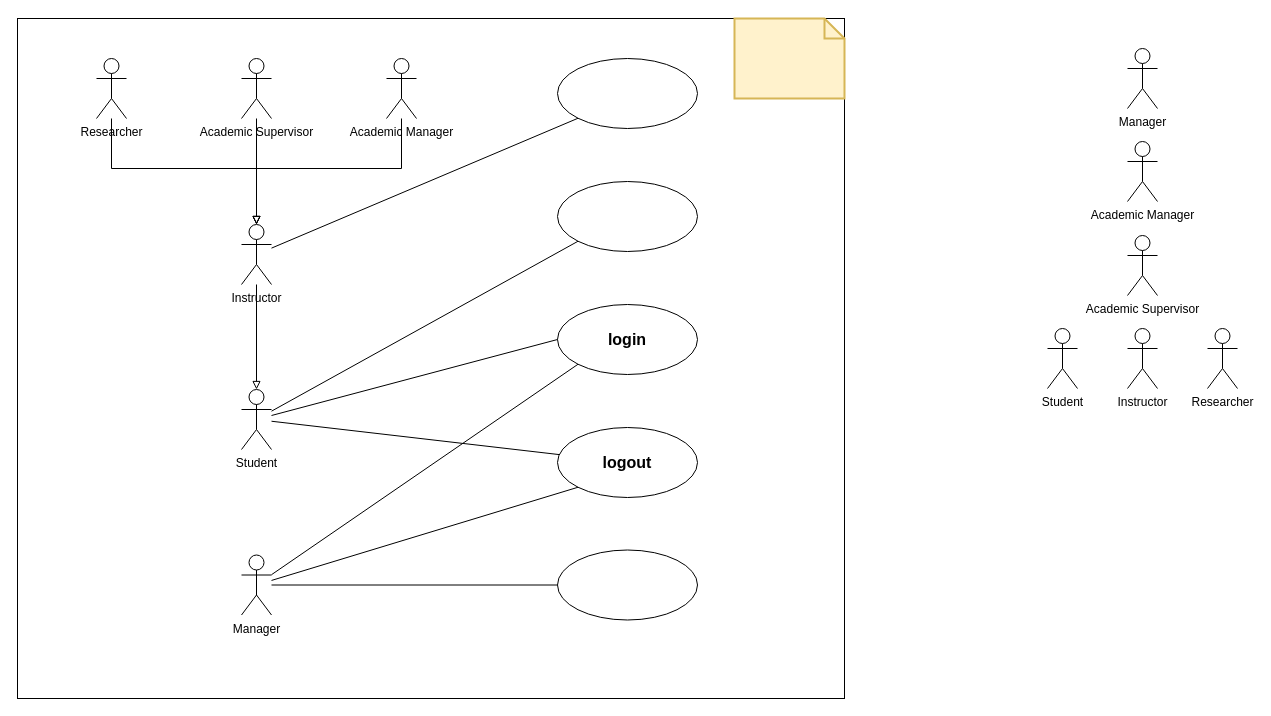
The diagram is 1271 pixels wide and 716 high, and some of its shapes have lost their labels. Each missing label, with the box of its shape:
Create Account: (556, 549, 698, 620)
Registration System: (733, 17, 845, 99)
Send Resume: (556, 58, 698, 128)
Sign up: (556, 180, 698, 252)
